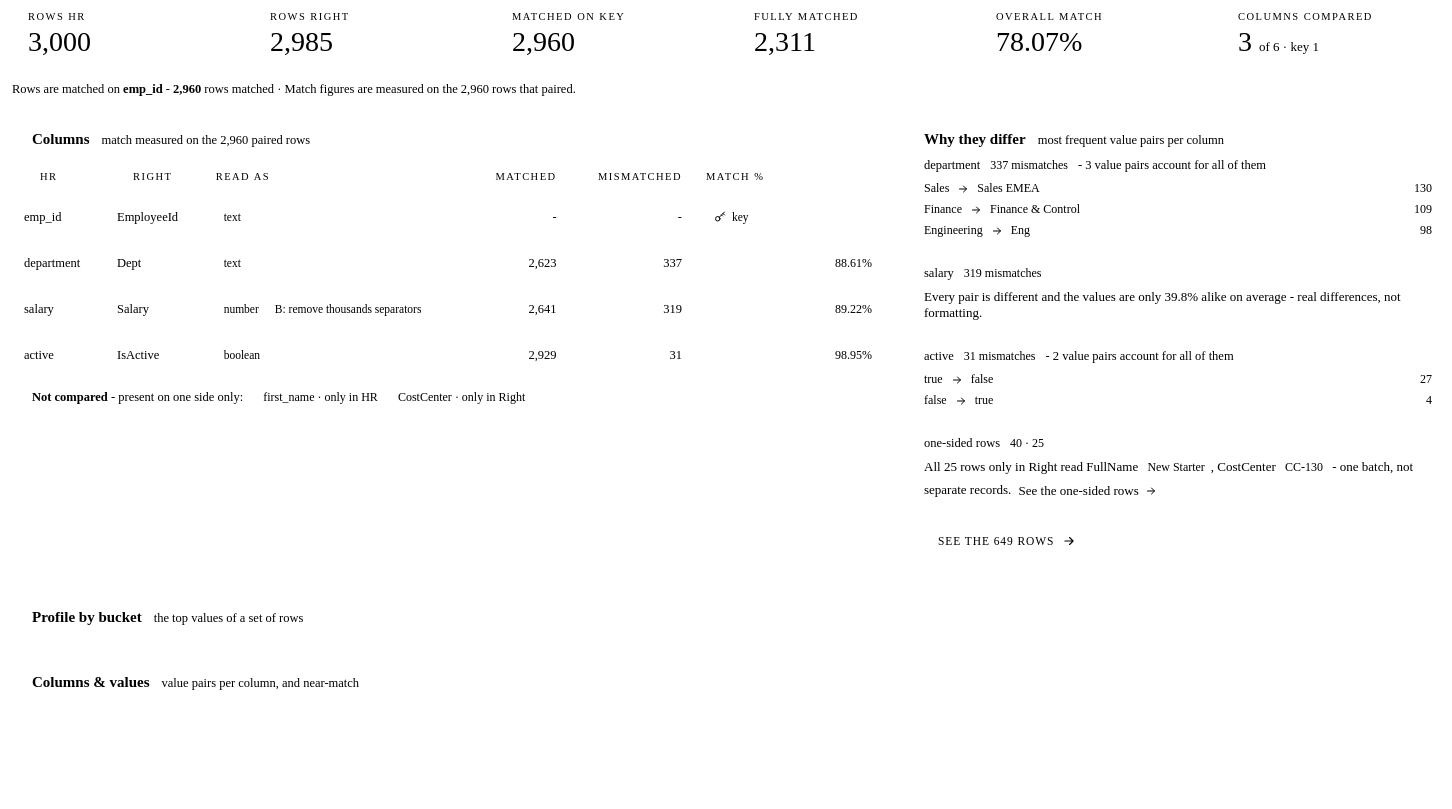
Test: the Summary: tiles, the Columns panel with its one-sided foot, and Profile by bucket
Expected: the text "3,000" is shown, [28,26,91,57]
Expected: the text "2,985" is shown, [270,26,333,57]
Step 1. Click the heading "Profile by bucket" → {"x": 168, "y": 617}, box [32,609,303,625]
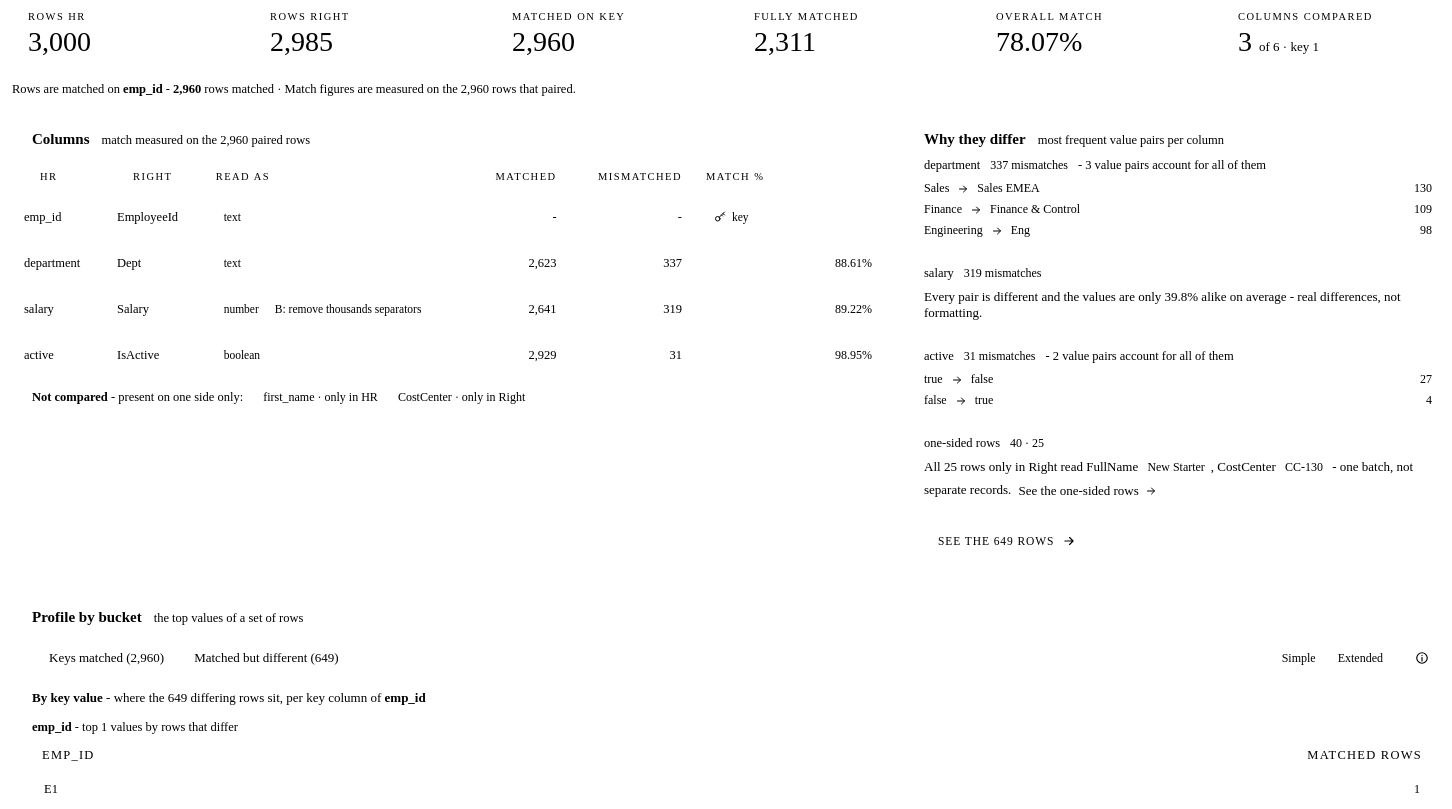
Step 2. Click the button "Keys matched (2,960)" → {"x": 107, "y": 658}, box [35,643,178,673]
(page scrolled)
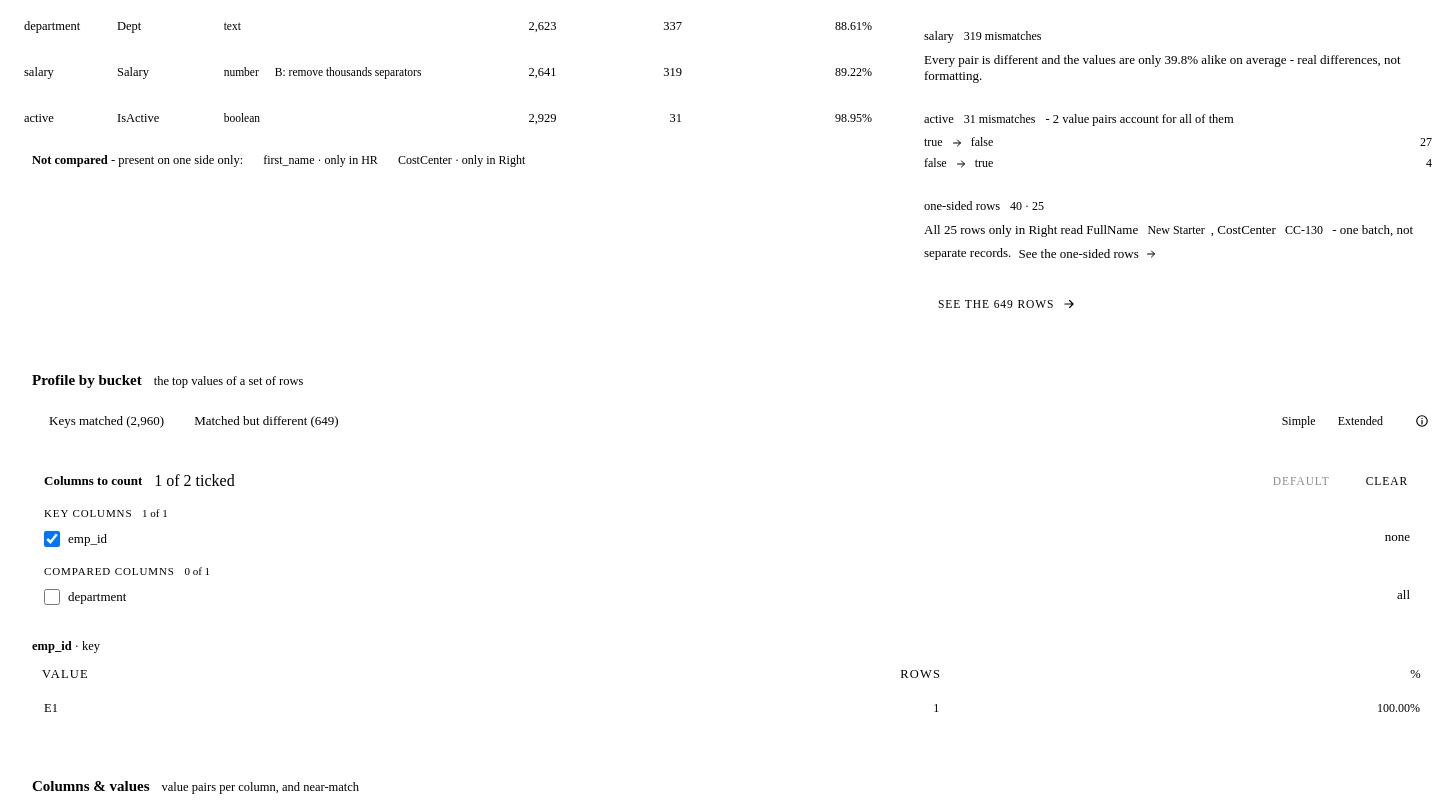
Expected: the text "1 of 2 ticked" is shown, [154,472,235,490]
Expected: the checkbox labelled "emp_id" is checked, [44,531,60,547]
Step 3. Click the checkbox labelled "department" → {"x": 52, "y": 597}, box [44,589,60,605]
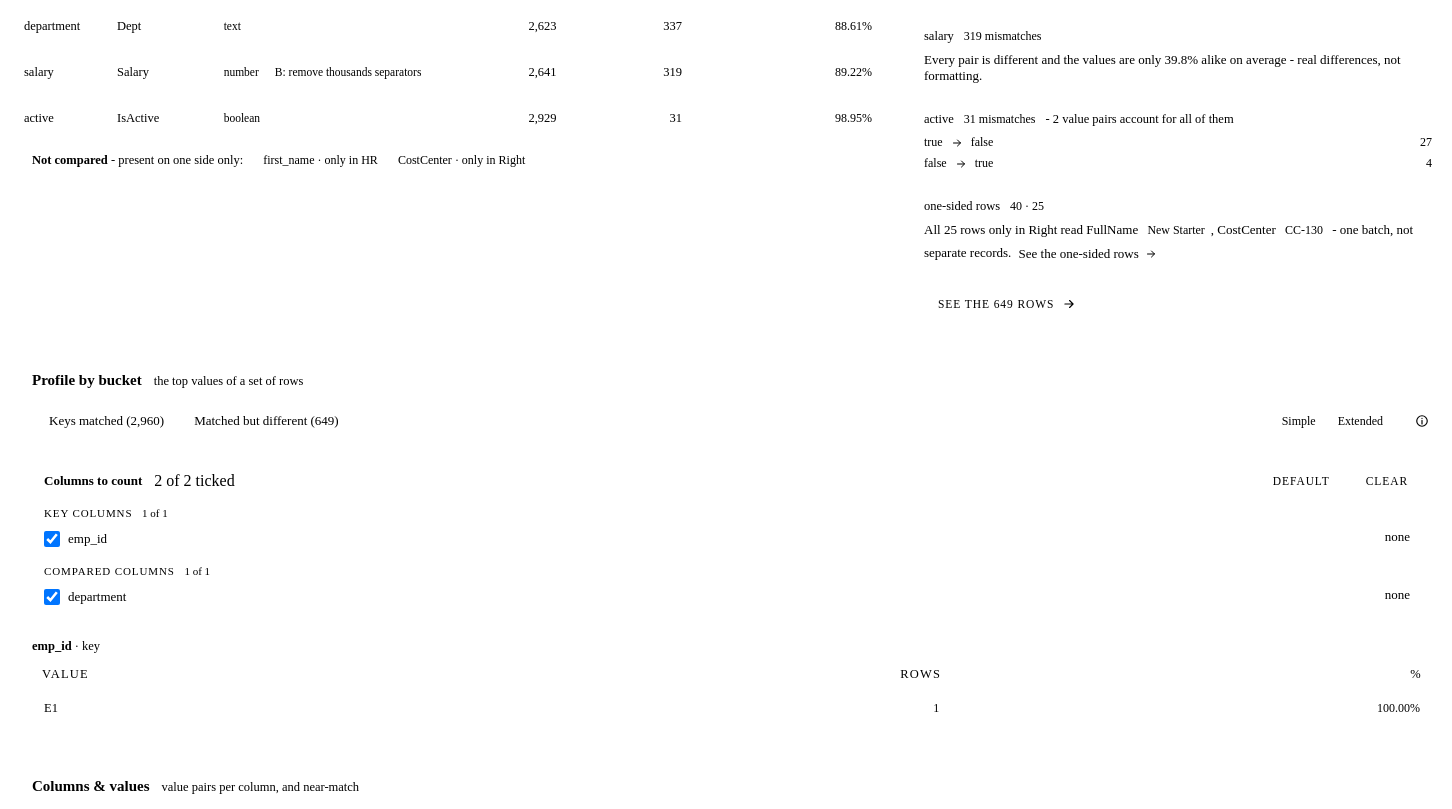
Expected: the checkbox labelled "department" is checked, [44,589,60,605]
Expected: the text "2 of 2 ticked" is shown, [154,472,235,490]
Step 4. Click the button "Clear" → {"x": 1387, "y": 481}, box [1354,465,1420,497]
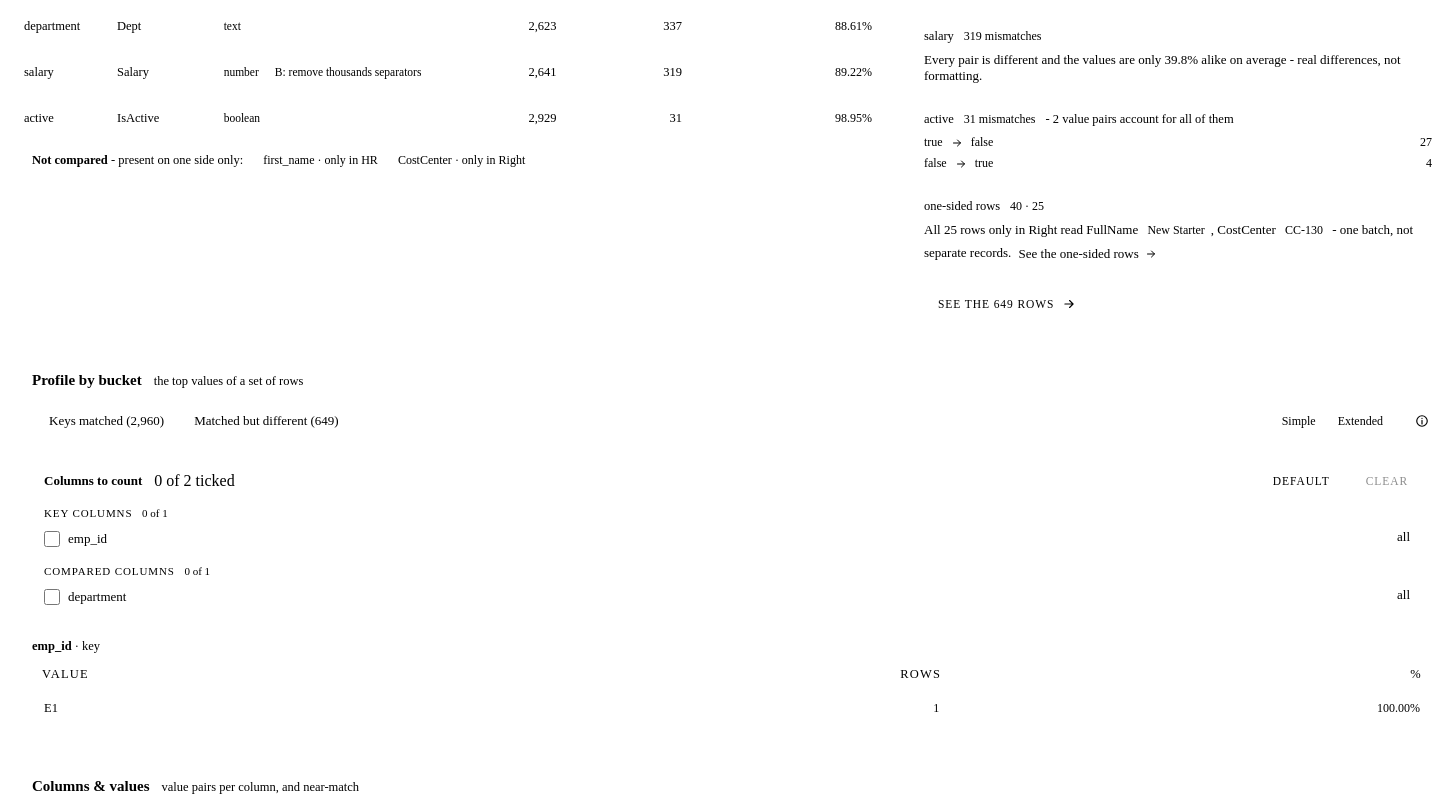
Expected: the checkbox labelled "department" is not checked, [44,589,60,605]
Step 5. Click the button "Default" → {"x": 1301, "y": 481}, box [1261,465,1342,497]
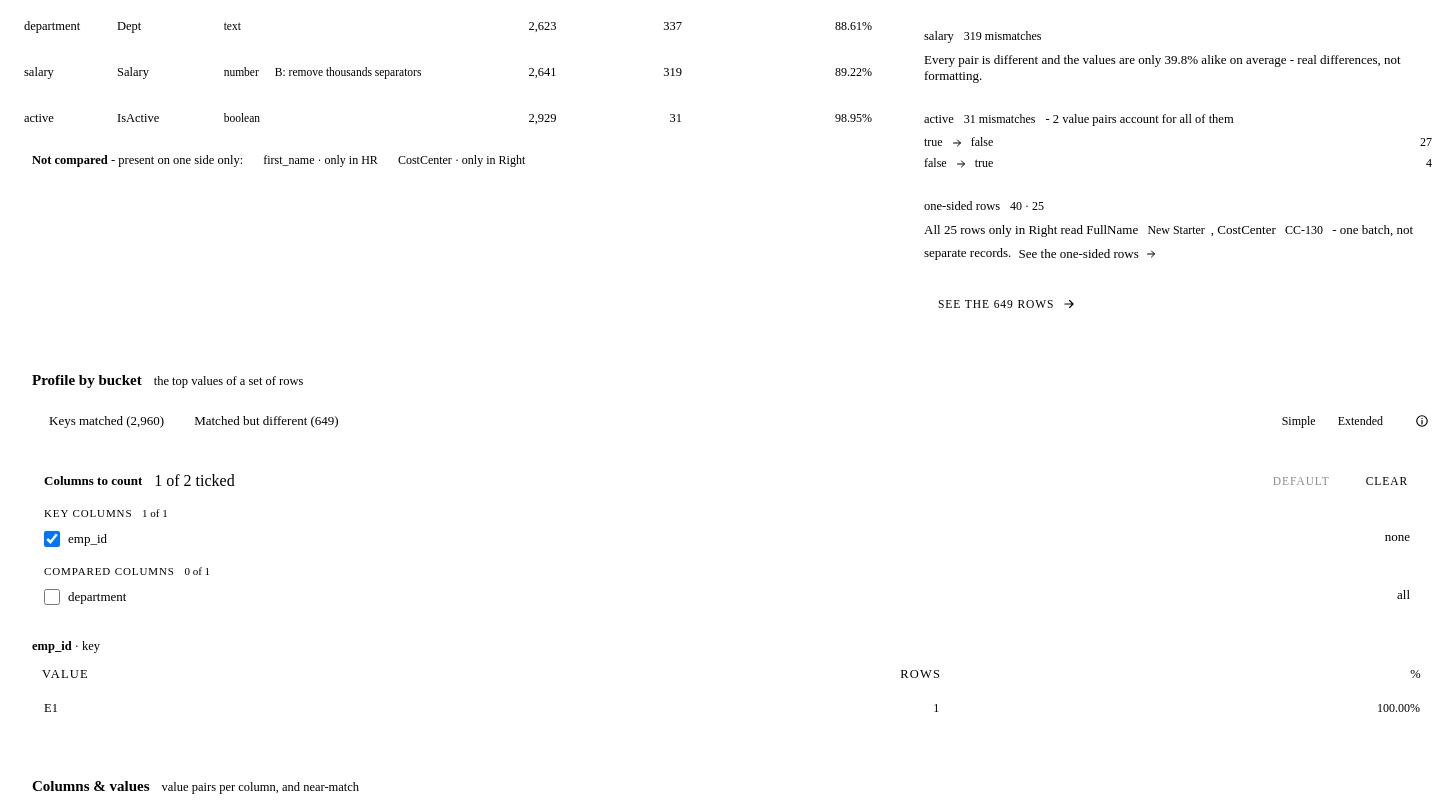
Expected: the checkbox labelled "emp_id" is checked, [44,531,60,547]
